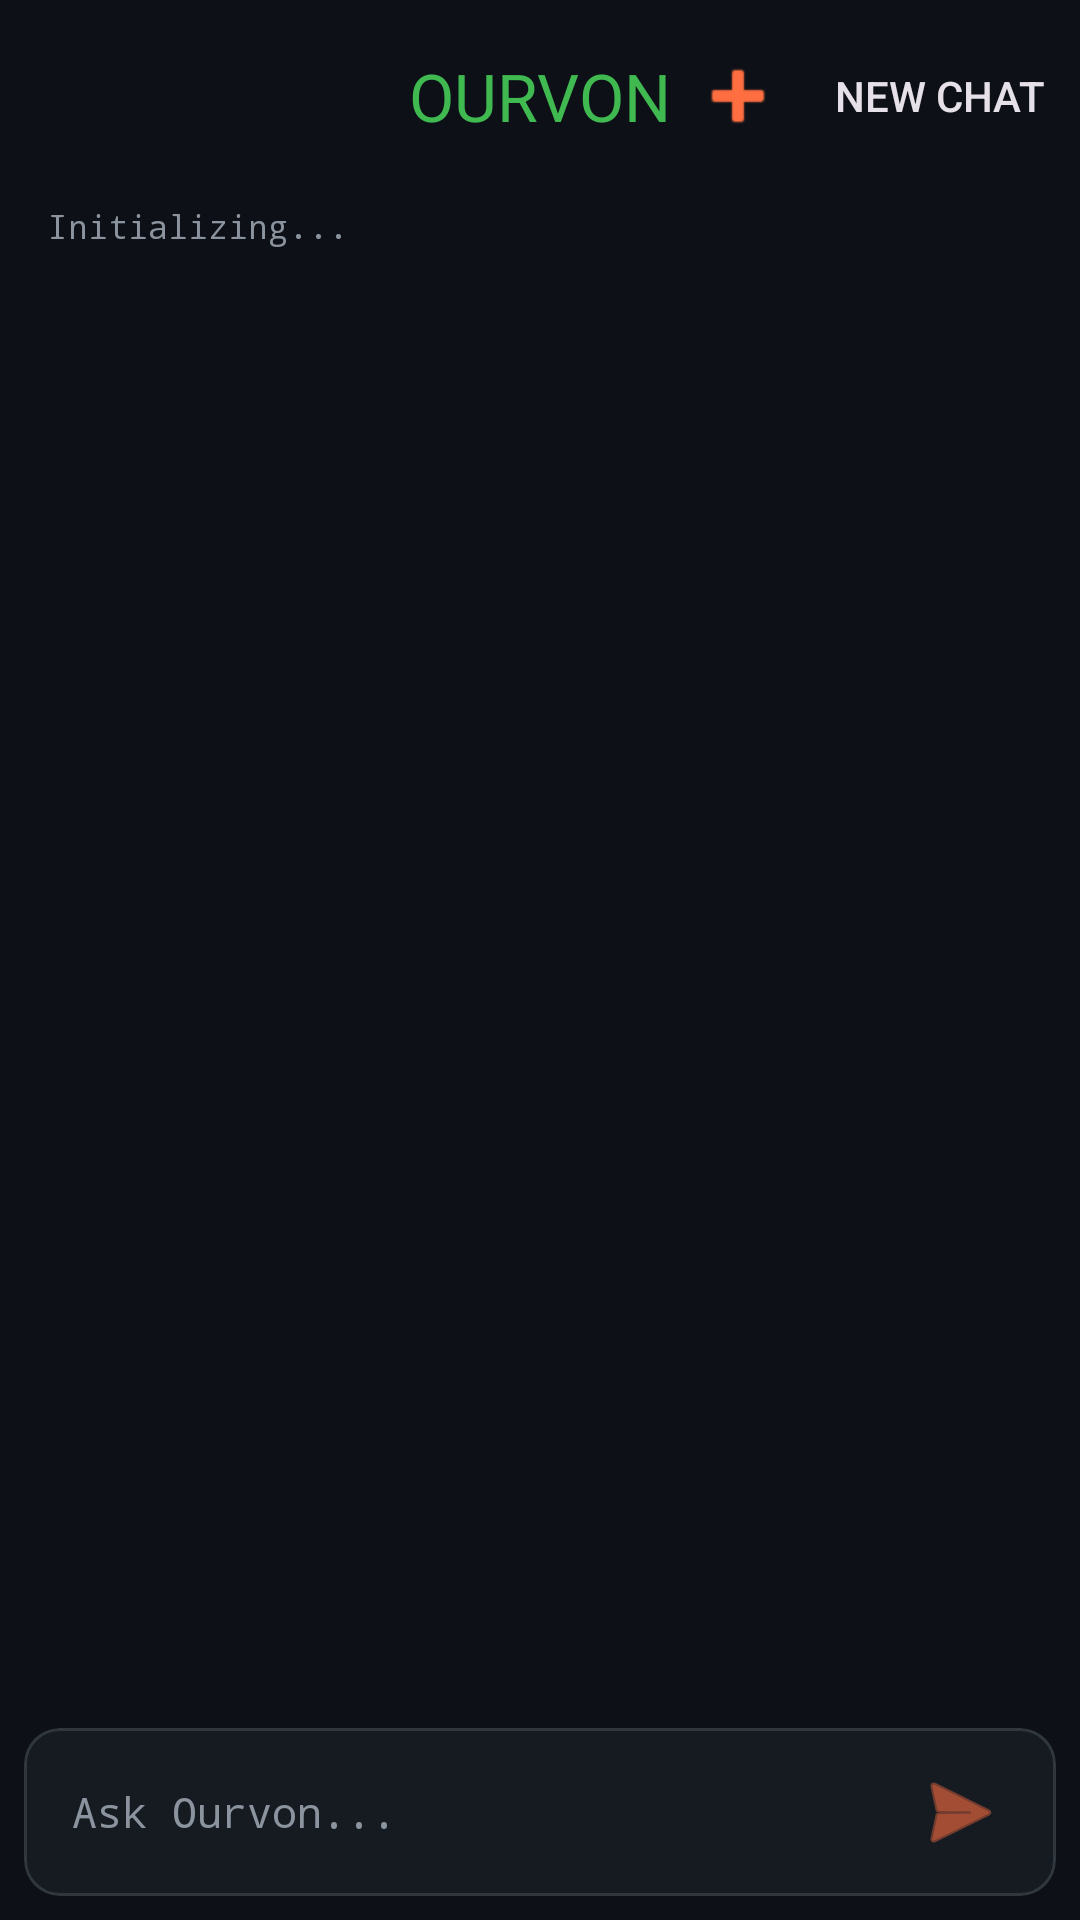

Icon click points for this 1080*1920 phone screenshot, format (x,y):
Send: (961,1812)
